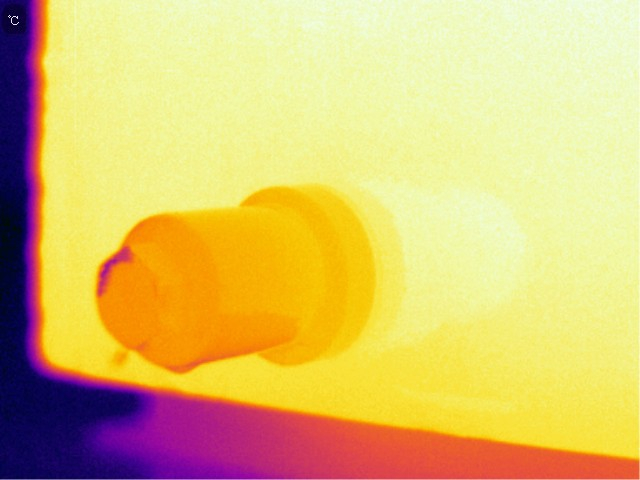Oil: (159, 359, 208, 378)
